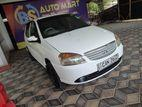car: (22, 13, 126, 87)
